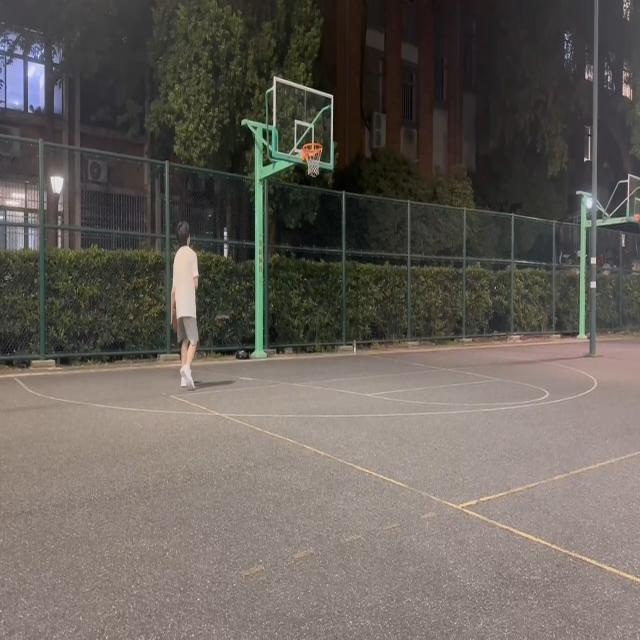basketball: (303, 142, 322, 176)
